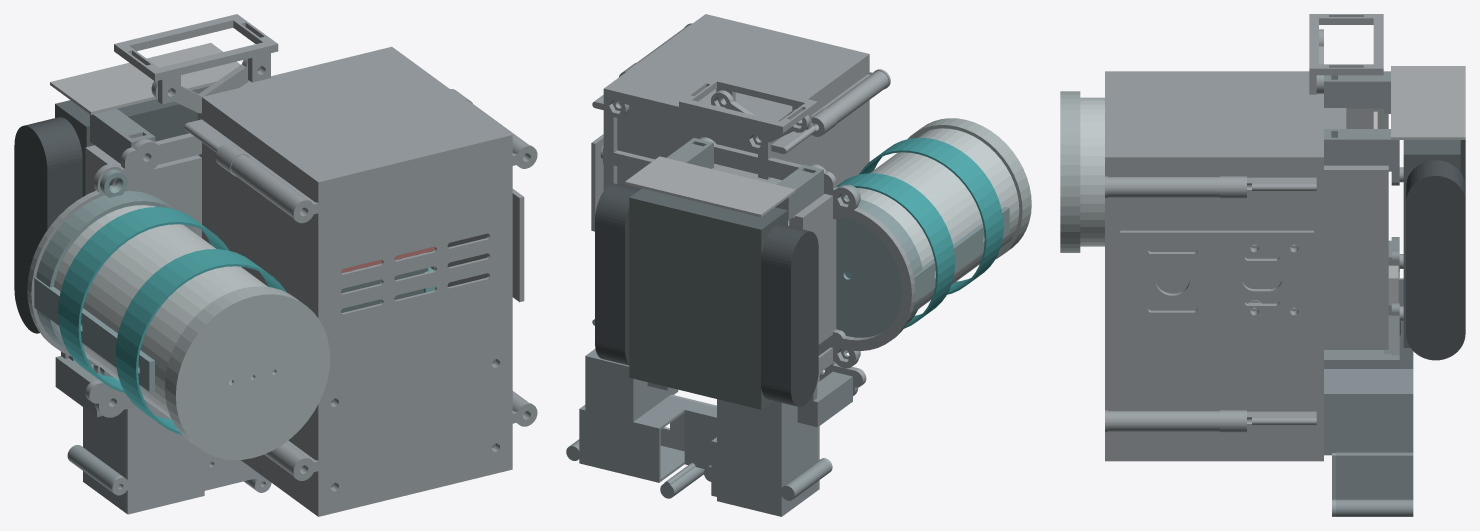
File: assembly-reference.glb
3 renders of one model, left to right at view 1: azimuth 30°, elevation 25°; view 2: azimuth 150°, elevation 25°; view 3: azimuth 270°, elevation 25°, orthographic. The views are drawn at different scales.
Parts seen in each view (by area): view 1: 07_removable_lid_12, 06_upper_wall_sleeve_11, 09_bottle_splash_cap_14, 04_lower_power_case_9, Bottle outline - illustrative_42, 03_carrier_and_uno_wire_guard_8, Original track - reference_33, 11_rear_duct_cover_16, 08_bottle_cradle_13, Bottle strap - not printed_44, Bottle strap - not printed_45, 13_front_sensor_bracket_18 (+7 smaller); view 2: Existing Zumo body - reference_32, 10_rear_cable_duct_15, 03_carrier_and_uno_wire_guard_8, 06_upper_wall_sleeve_11, 04_lower_power_case_9, Original track - reference_33, 08_bottle_cradle_13, Bottle outline - illustrative_42, Original track - reference_34, Original blade - illustrative_35, Bottle strap - not printed_45, Bottle strap - not printed_44 (+8 smaller); view 3: 06_upper_wall_sleeve_11, 04_lower_power_case_9, 12_fixed_camera_nozzle_plate_17, 03_carrier_and_uno_wire_guard_8, 10_rear_cable_duct_15, Original track - reference_34, Original blade - illustrative_35, Bottle outline - illustrative_42, 09_bottle_splash_cap_14, 01_mount_front_right_1, 13_front_sensor_bracket_18, 01_mount_front_left_0 (+3 smaller).
Boxes of the visible parts, box(x1,y1,x2,y2) form: 07_removable_lid_12: box(292, 134, 537, 516); 06_upper_wall_sleeve_11: box(231, 88, 529, 515); 09_bottle_splash_cap_14: box(165, 286, 330, 460); 04_lower_power_case_9: box(184, 50, 472, 470); Bottle outline - illustrative_42: box(53, 205, 274, 418); 03_carrier_and_uno_wire_guard_8: box(27, 46, 395, 417); Original track - reference_33: box(14, 117, 82, 333); 11_rear_duct_cover_16: box(110, 403, 271, 514); 08_bottle_cradle_13: box(34, 169, 195, 391); Bottle strap - not printed_44: box(58, 207, 229, 392); Bottle strap - not printed_45: box(115, 249, 286, 434); 13_front_sensor_bracket_18: box(114, 14, 278, 104); Existing Zumo body - reference_32: box(629, 188, 787, 409); 10_rear_cable_duct_15: box(566, 348, 830, 516); 03_carrier_and_uno_wire_guard_8: box(603, 86, 915, 395); 06_upper_wall_sleeve_11: box(637, 15, 888, 370); 04_lower_power_case_9: box(592, 53, 837, 325); Original track - reference_33: box(761, 224, 818, 406); 08_bottle_cradle_13: box(836, 184, 1009, 357); Bottle outline - illustrative_42: box(845, 128, 1019, 308); Original track - reference_34: box(595, 183, 639, 365); Original blade - illustrative_35: box(625, 156, 795, 217); Bottle strap - not printed_45: box(859, 137, 1003, 294); Bottle strap - not printed_44: box(836, 173, 955, 328); 06_upper_wall_sleeve_11: box(1108, 71, 1219, 461); 04_lower_power_case_9: box(1219, 71, 1316, 461); 12_fixed_camera_nozzle_plate_17: box(1120, 230, 1313, 327); 03_carrier_and_uno_wire_guard_8: box(1316, 29, 1388, 461); 10_rear_cable_duct_15: box(1324, 278, 1413, 516); Original track - reference_34: box(1406, 160, 1465, 360); Original blade - illustrative_35: box(1391, 66, 1465, 139); Bottle outline - illustrative_42: box(1080, 97, 1104, 246); 09_bottle_splash_cap_14: box(1060, 91, 1080, 252); 01_mount_front_right_1: box(1324, 129, 1399, 185); 13_front_sensor_bracket_18: box(1309, 14, 1383, 94); 01_mount_front_left_0: box(1324, 71, 1390, 113).
Size of the model in its own units: 0.1645 by 0.1845 by 0.1632.
